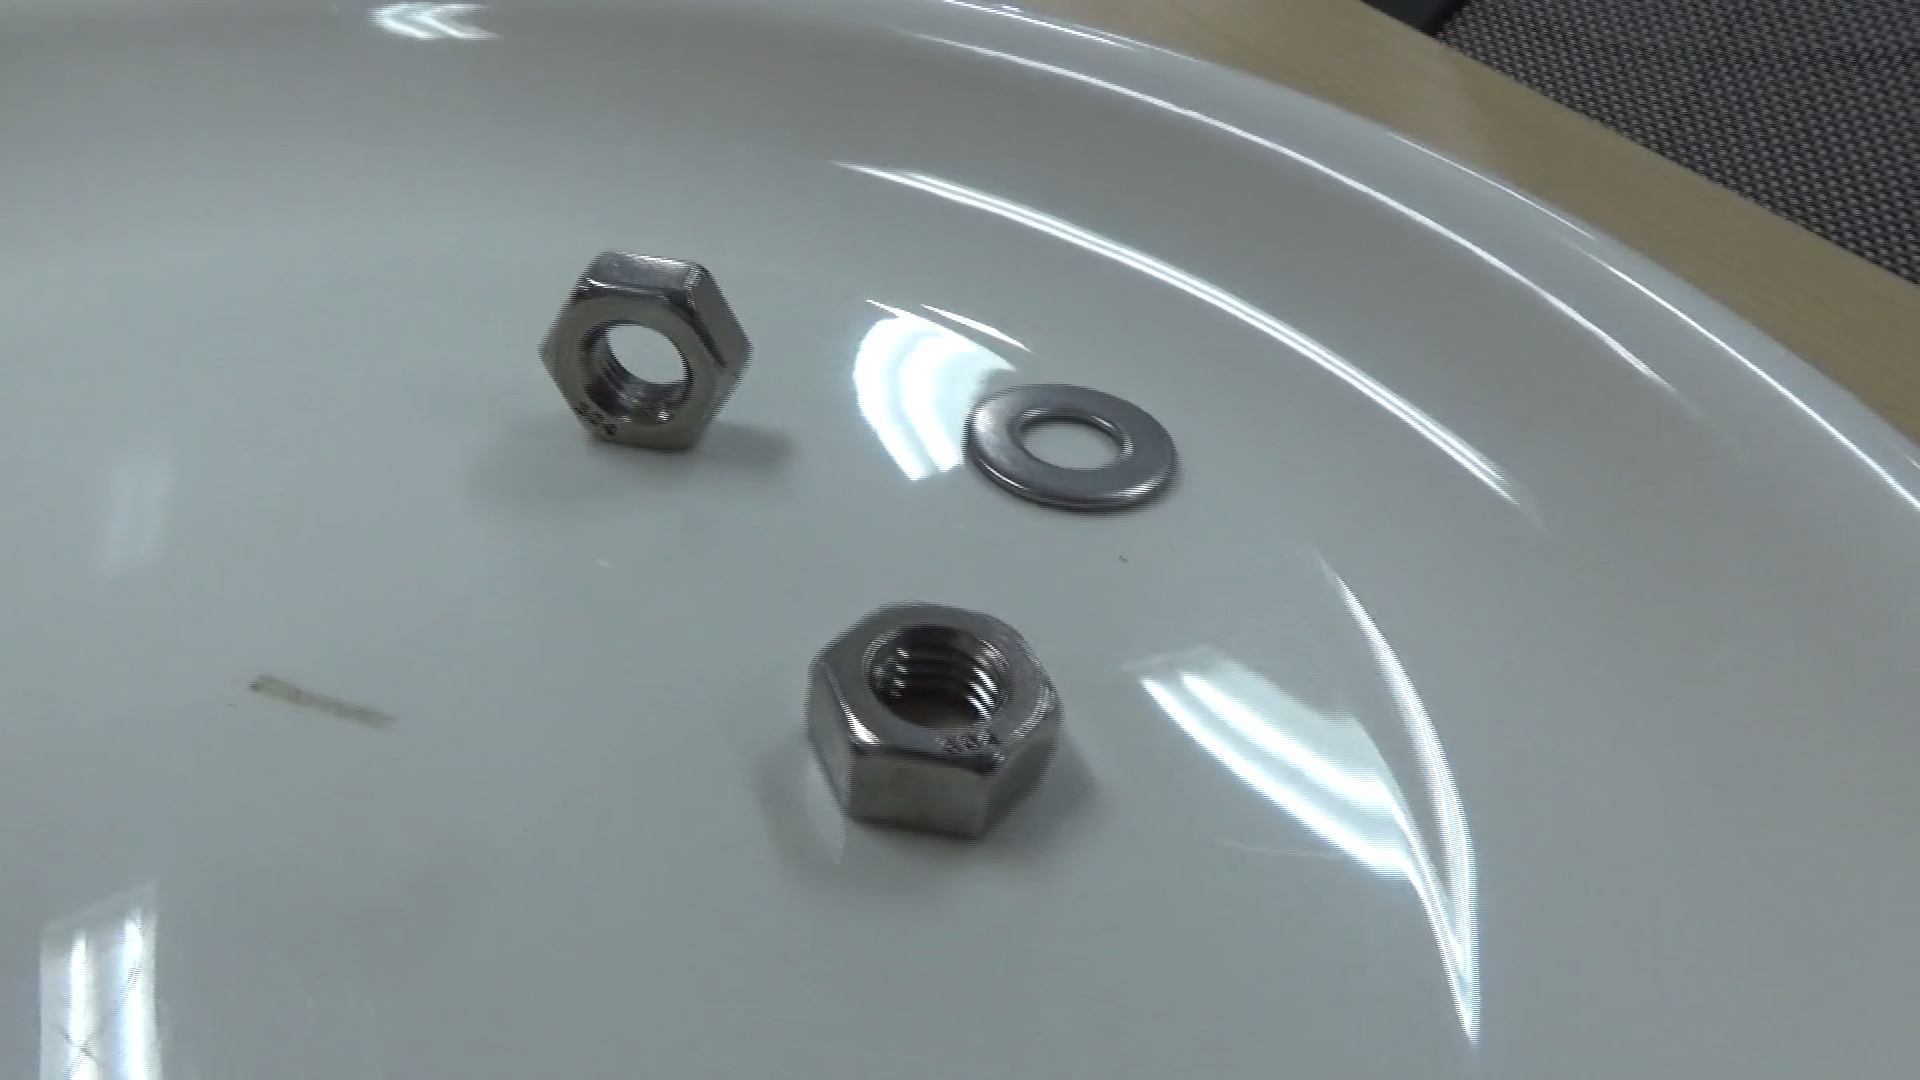nut: (800, 599, 1064, 845), (531, 244, 750, 458)
washer: (955, 378, 1182, 517)
